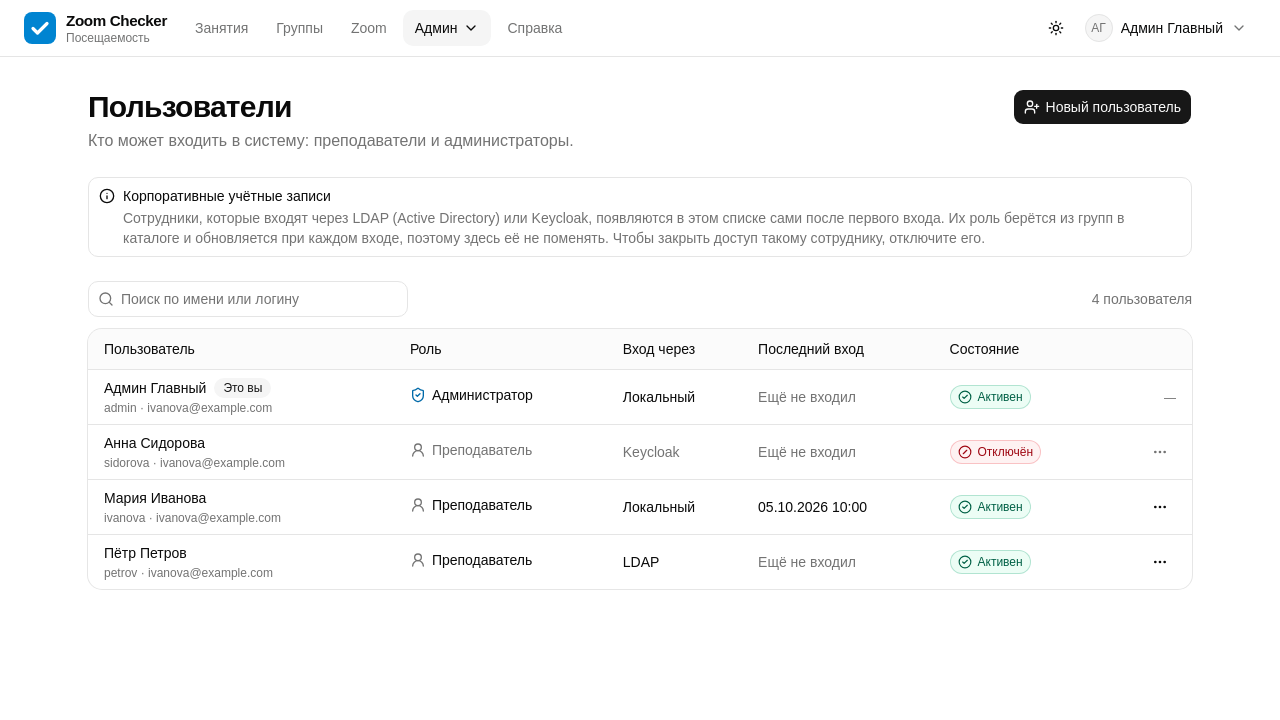
Scenario: UsersPage › filters by name or login
The width and height of the screenshot is (1280, 720).
Expected: the table is shown, [88, 329, 1192, 588]
Type "петр" into the search field labelled "Поиск по имени или логину" at [248, 299], box [88, 281, 408, 317]
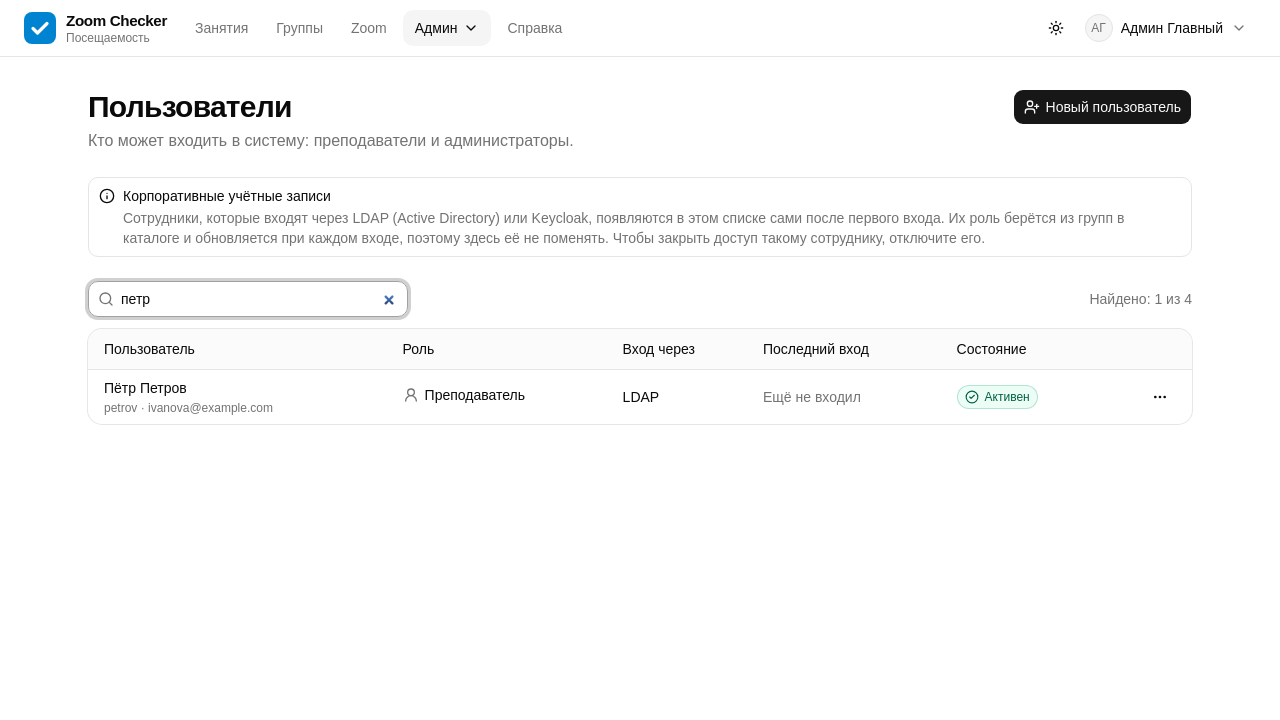
Result: the number of rows is 2 at [88, 329, 1192, 369]; [88, 369, 1192, 424]
Result: the text "Найдено: 1 из 4" is shown at [1089, 289, 1192, 309]
